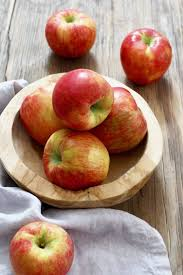apple: (43, 127, 112, 193), (11, 218, 73, 275), (98, 87, 151, 153), (57, 70, 114, 131), (120, 32, 183, 85), (19, 95, 80, 146), (47, 10, 99, 60)
